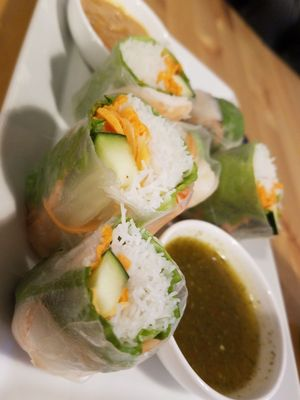sushi: (154, 218, 297, 400)
